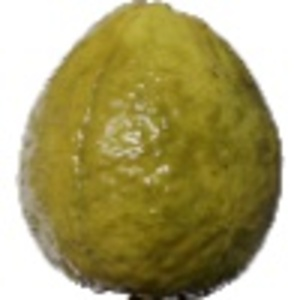goiaba: (12, 1, 290, 294)
